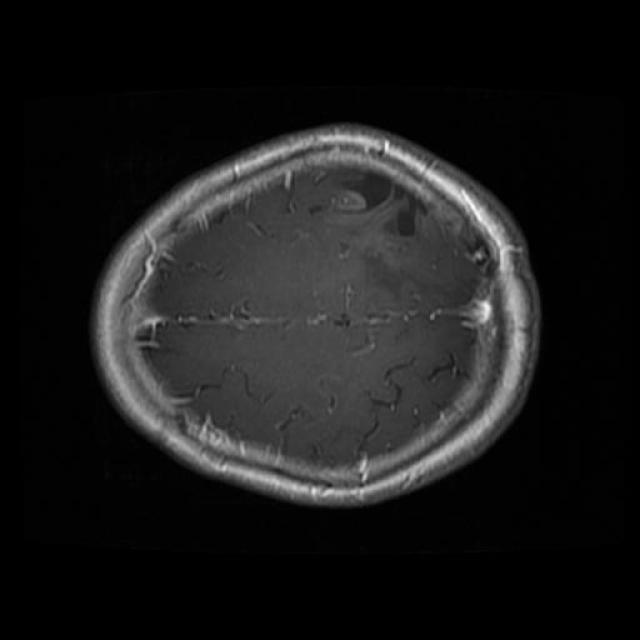Glioma: (320, 170, 416, 236)
